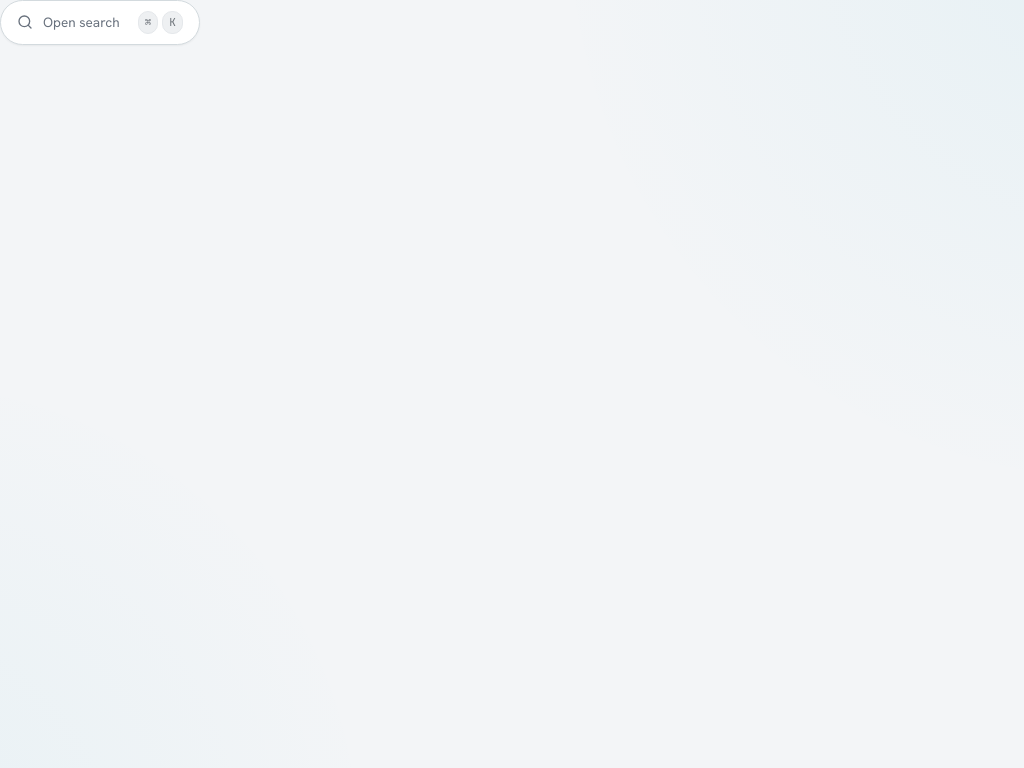
CommandPalette live /search (#231) › surfaces backend hits for a typed query
Click the button "Open search ⌘ K".
click(100, 22)  # box [0,0,200,44]
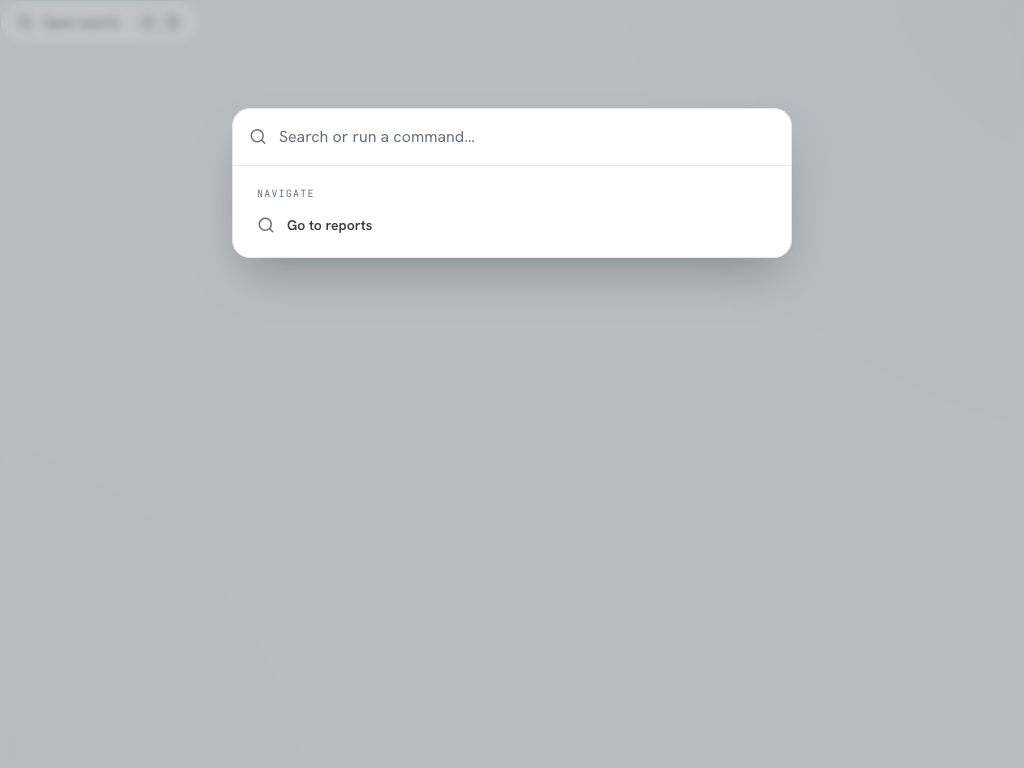
Type "widget" into the dropdown.
click(527, 136); type("widget")  # box [279,124,775,148]
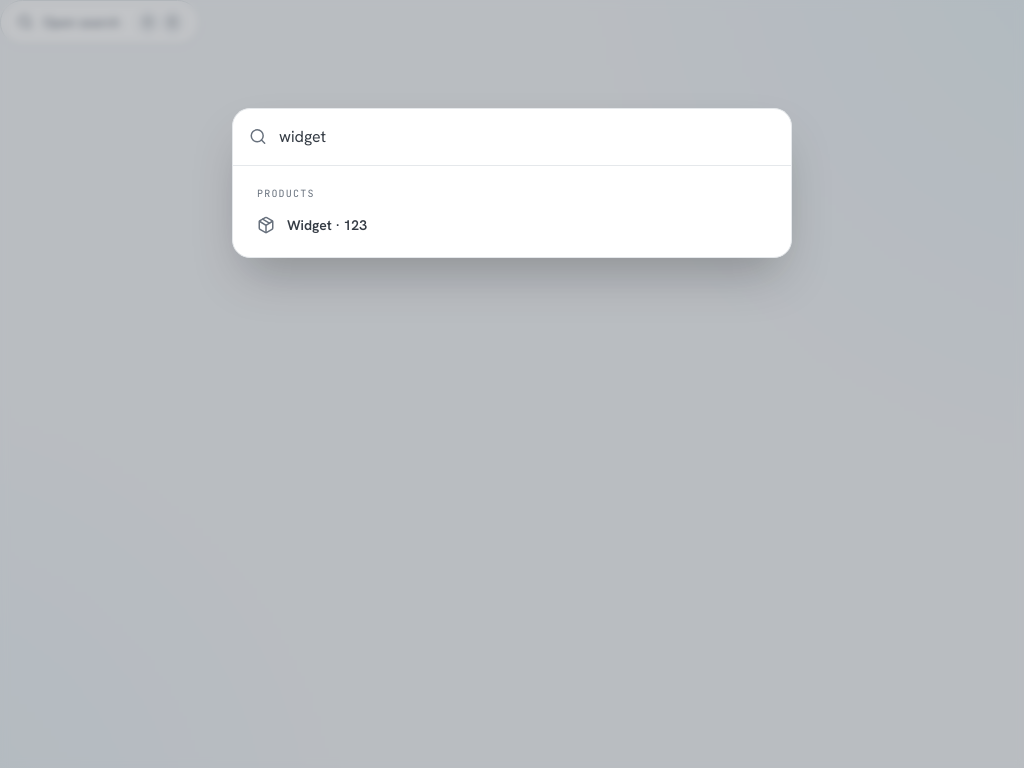
expect the option "Widget · 123" is shown: met, box [245,204,779,244]
